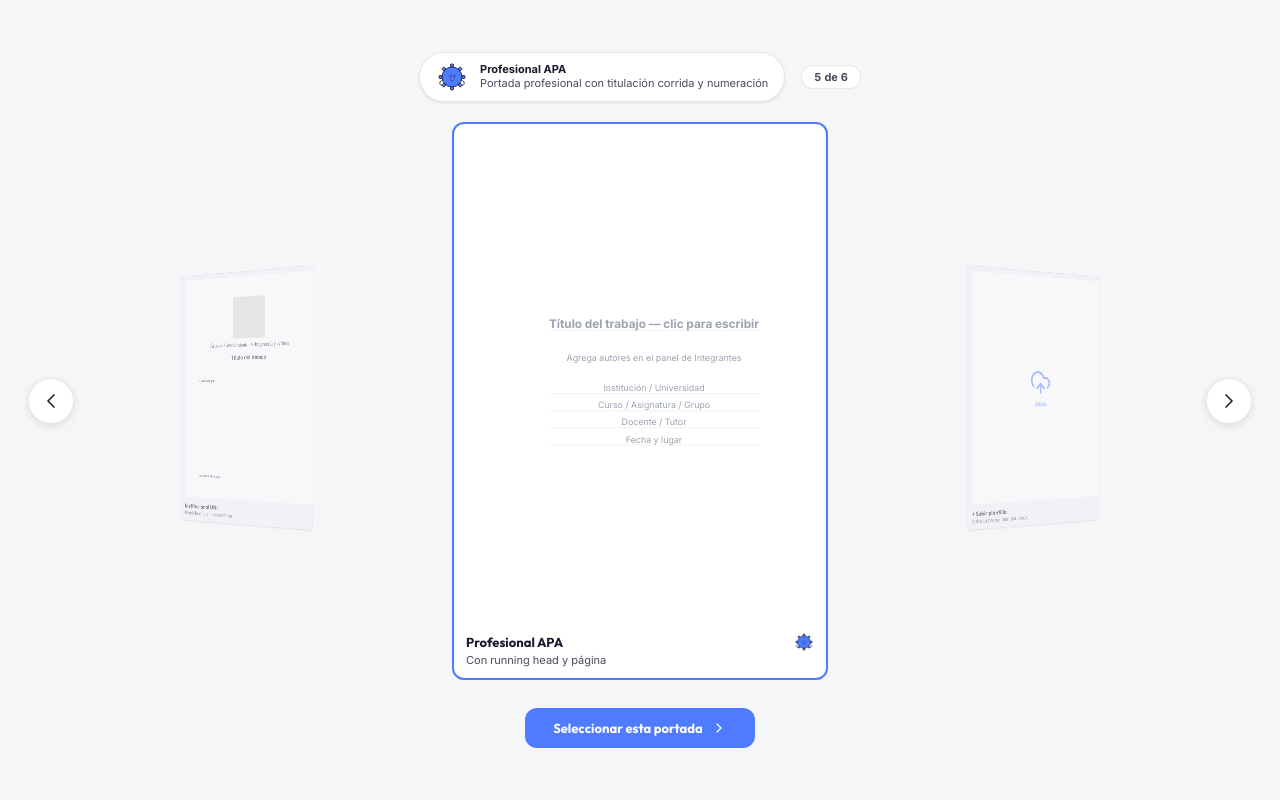
Test: T18 — honestidad del modo de portada › la plantilla cargada se nombra en la vista previa del editor
This screenshot has width=1280, height=800.
Click the button with test id "btn-seleccionar-portada-cta". click: click(640, 728)
box: [525,708,755,748]
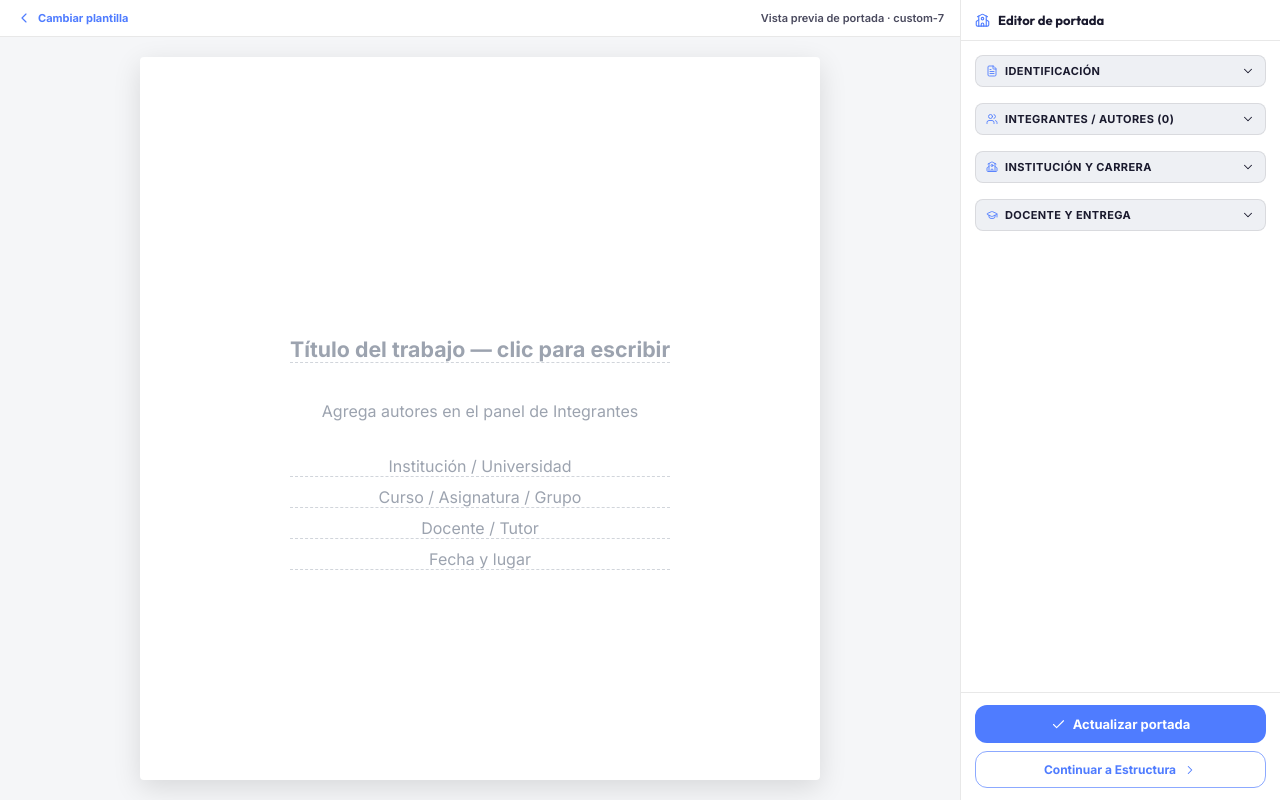
Result: the text "Vista previa de portada · custom-7" is shown at [761,11,944,25]
